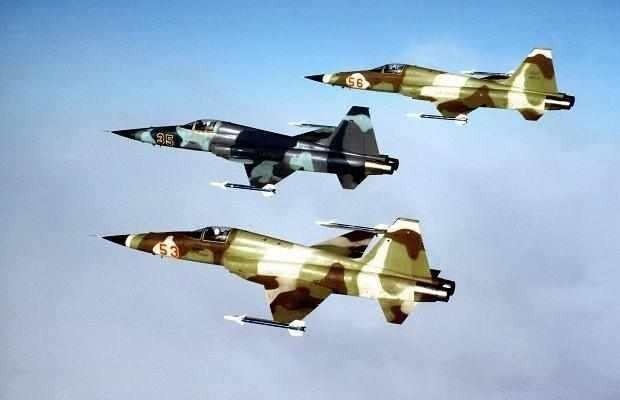airplane: (97, 215, 459, 334), (99, 103, 404, 196), (298, 43, 577, 125)
